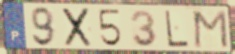3: (129, 9, 159, 48)
5: (97, 8, 122, 48)
9: (30, 6, 57, 49)
L: (164, 9, 190, 49)
M: (192, 9, 230, 50)
X: (62, 7, 93, 48)
